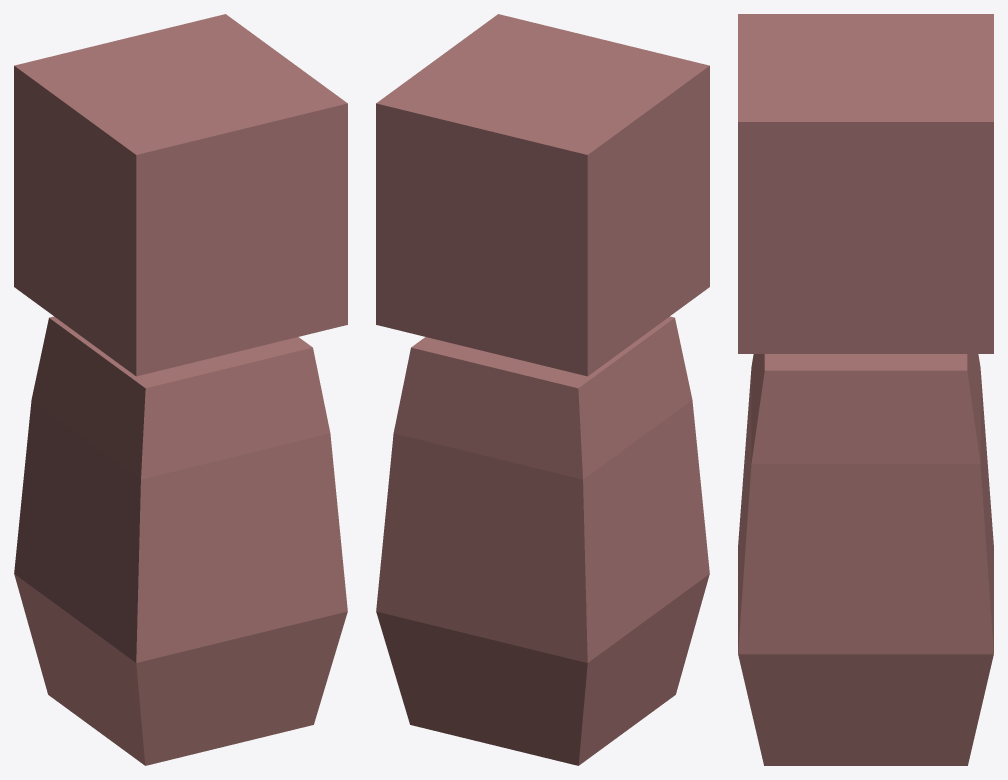
File: char_red.fbx
3 views of the same model, side by side, from view 1: azimuth 30°, elevation 25°; view 2: azimuth 150°, elevation 25°; view 3: azimuth 270°, elevation 25° (orthographic). The views are drawn at different scales.
Visible parts, largest first — view 1: pCube1, pCube2; view 2: pCube1, pCube2; view 3: pCube1, pCube2.
Boxes of the visible parts, left/top/right/bottom form: pCube1: left=14, top=316, right=347, bottom=765; pCube2: left=14, top=14, right=347, bottom=376; pCube1: left=376, top=316, right=709, bottom=765; pCube2: left=376, top=14, right=709, bottom=376; pCube1: left=738, top=354, right=993, bottom=765; pCube2: left=738, top=14, right=993, bottom=353.
Bounding box in the file's own units: 1 × 2.82 × 1.
